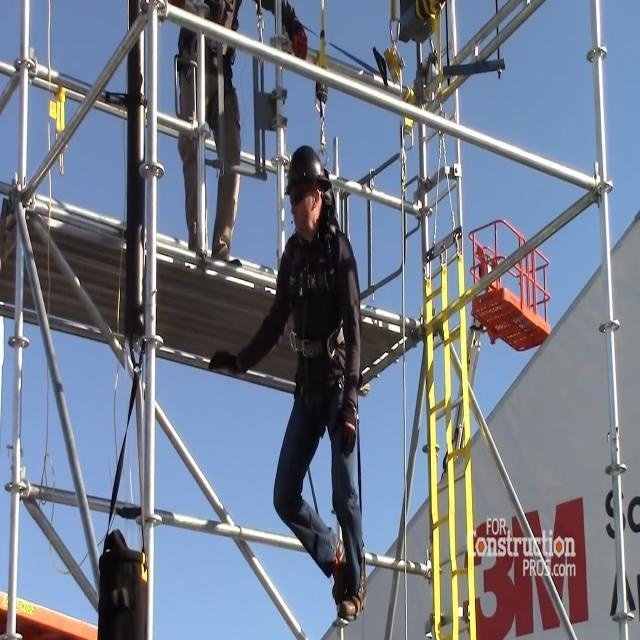Arnes_seguridad: (287, 155, 360, 439), (178, 0, 251, 128)
